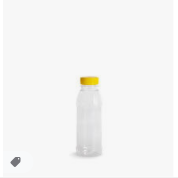Bottle: (77, 77, 104, 159)
